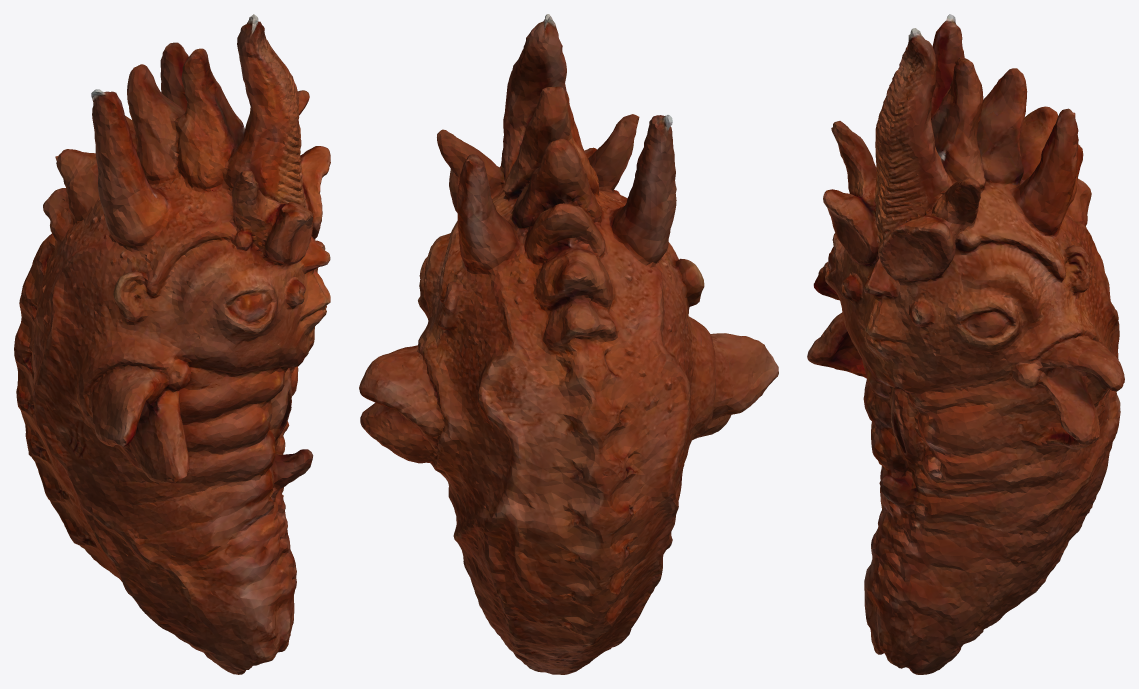
The model's file is chemajo.glb.
The picture shows the model from 3 angles, left to right: view 1: azimuth 30°, elevation 25°; view 2: azimuth 150°, elevation 25°; view 3: azimuth 270°, elevation 25°; orthographic projection.
Size of the model in its own units: 0.4779 by 1.04 by 0.4642.
1 material, 1 textured.
